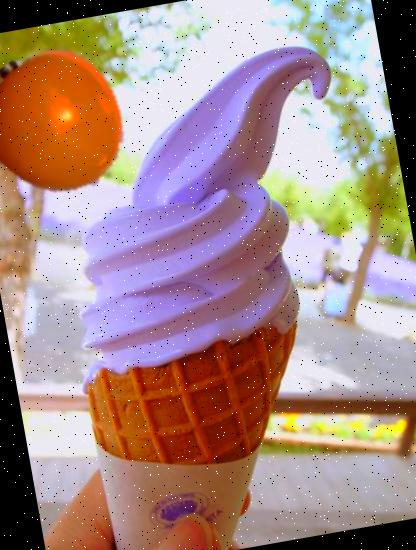Tomato: (0, 35, 140, 209)
